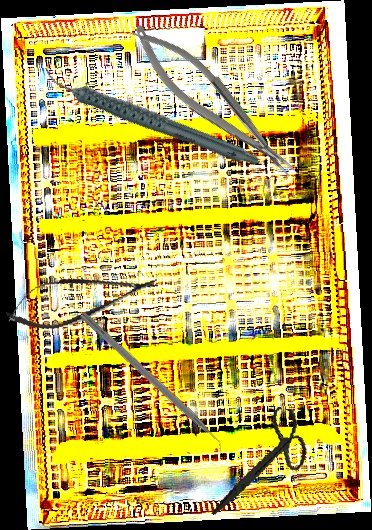Chopper: (72, 311, 230, 460)
Handpiece: (40, 26, 262, 207)
Iris Scissors: (210, 398, 314, 530)
Micro Scissor: (1, 259, 163, 338)
Needle Holder: (120, 10, 304, 194)
